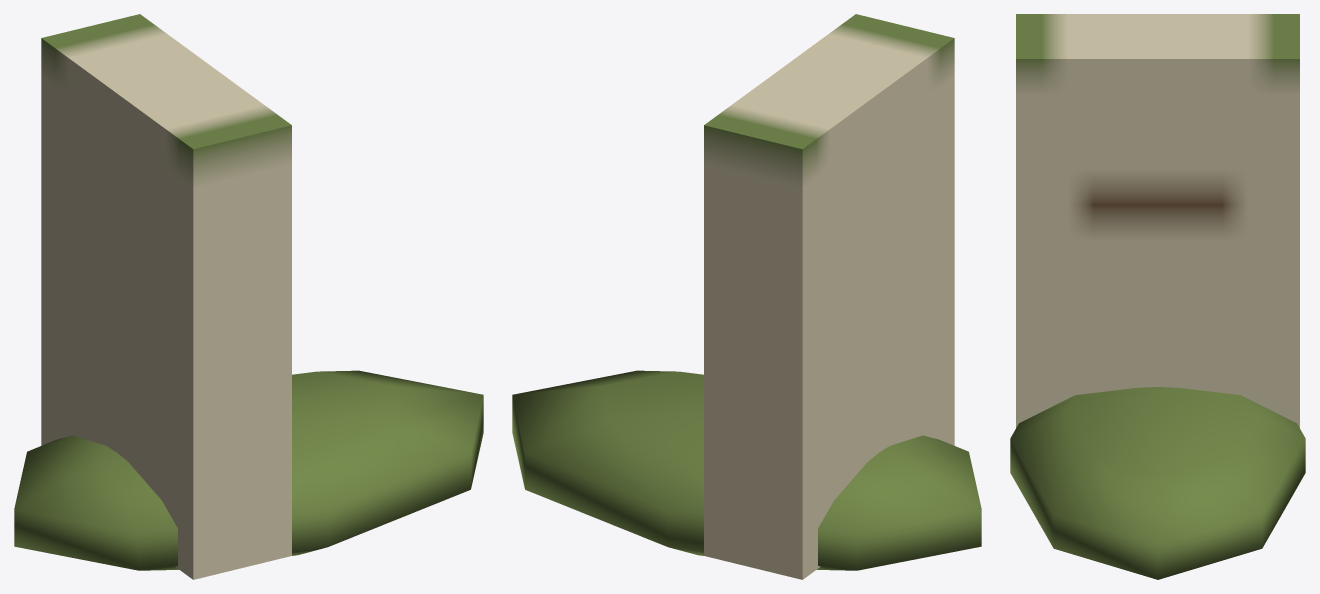
File: prop_grave0_6426.glb
3 renders of one model, left to right at view 1: azimuth 30°, elevation 25°; view 2: azimuth 150°, elevation 25°; view 3: azimuth 270°, elevation 25°, orthographic. The views are drawn at different scales.
Parts seen in each view (by area): view 1: prop_grave0_6426; view 2: prop_grave0_6426; view 3: prop_grave0_6426.
Part boxes in pixels (bbox=[...]): prop_grave0_6426: bbox=[14, 14, 483, 579]; prop_grave0_6426: bbox=[512, 14, 981, 579]; prop_grave0_6426: bbox=[1010, 14, 1305, 579].
Size of the model in its own units: 0.5044 by 0.4818 by 0.2942.
Materials: 1 (1 with a texture image).
